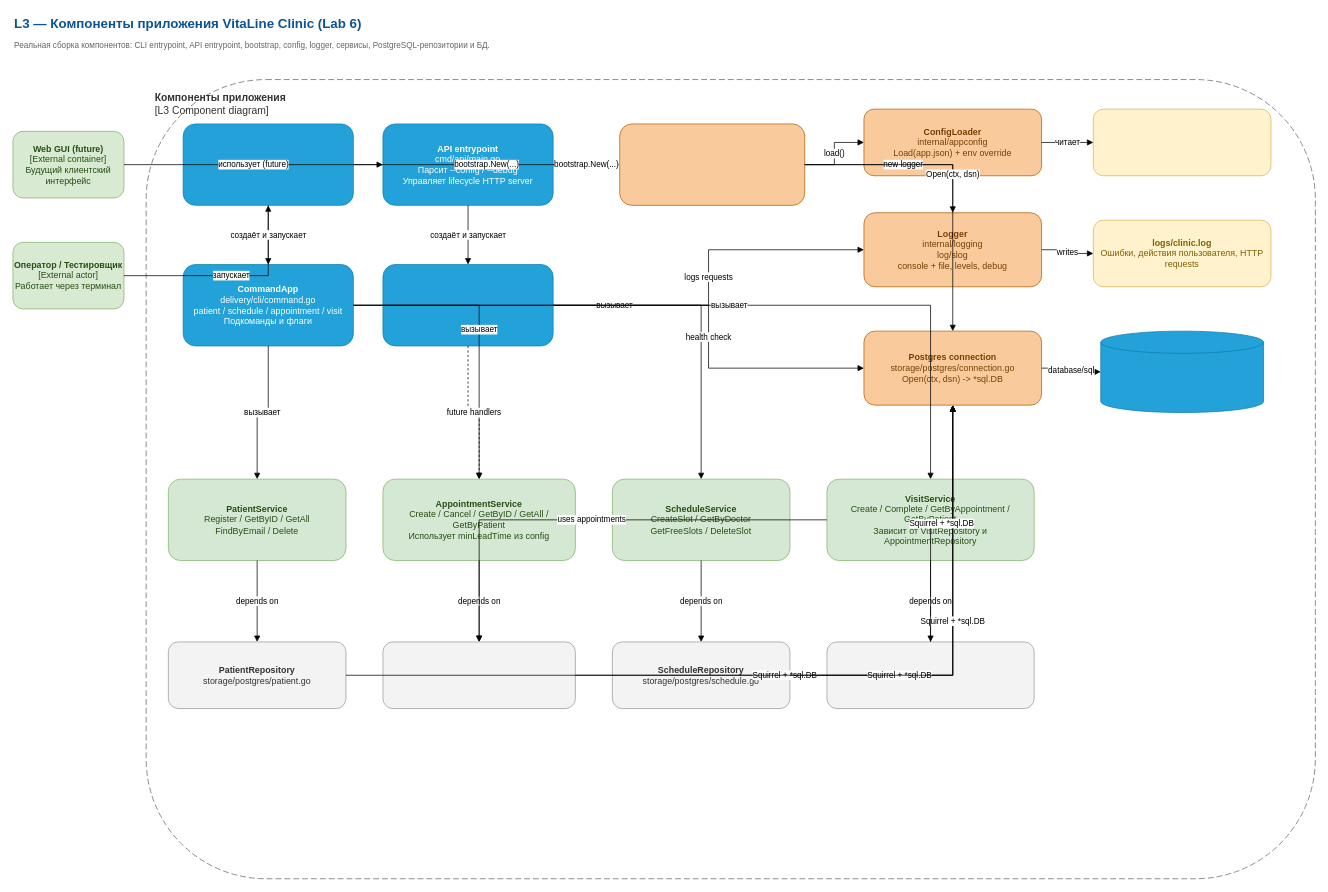
Image size: 1328x892. Some labels were removed from this diagram. The centre of each missing label's shape, as x and y in pixels:
"AppointmentRepository storage/postgres/appointment.go" belongs at point 478,675.
"Bootstrap internal/bootstrap Собирает config, logger, db, repos и services" belongs at point 712,164.
"CLI entrypoint cmd/cli/main.go Парсит --config / --debug Запускает binary CLI" belongs at point 267,164.
"config/app.json DB URL, HTTP address, log level/file, minLeadTime" belongs at point 1182,142.
"HTTP Server delivery/http/server.go /health, /info Request logging" belongs at point 467,305.
"PostgreSQL Реальная база приложения" belongs at point 1182,371.
"VisitRepository storage/postgres/visit.go" belongs at point 930,675.
